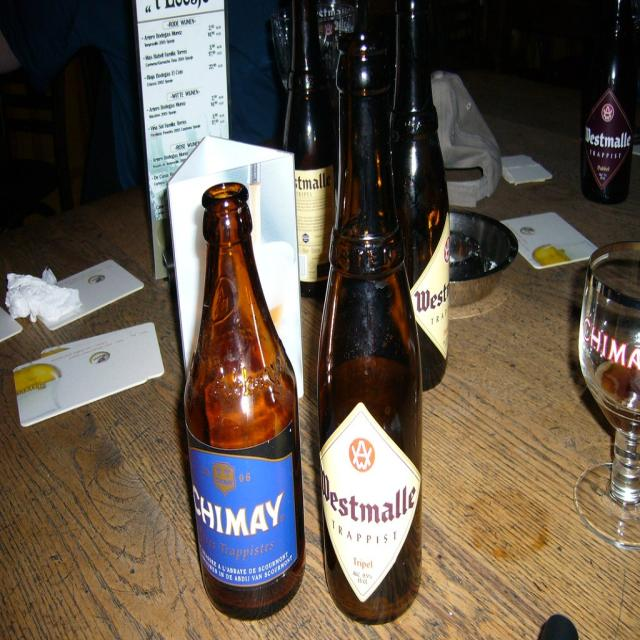chimay: (189, 447, 299, 588)
